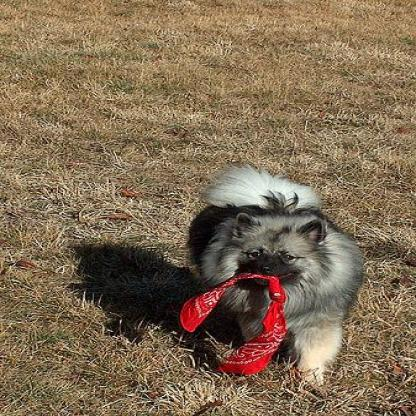keeshond: (185, 164, 363, 384)
